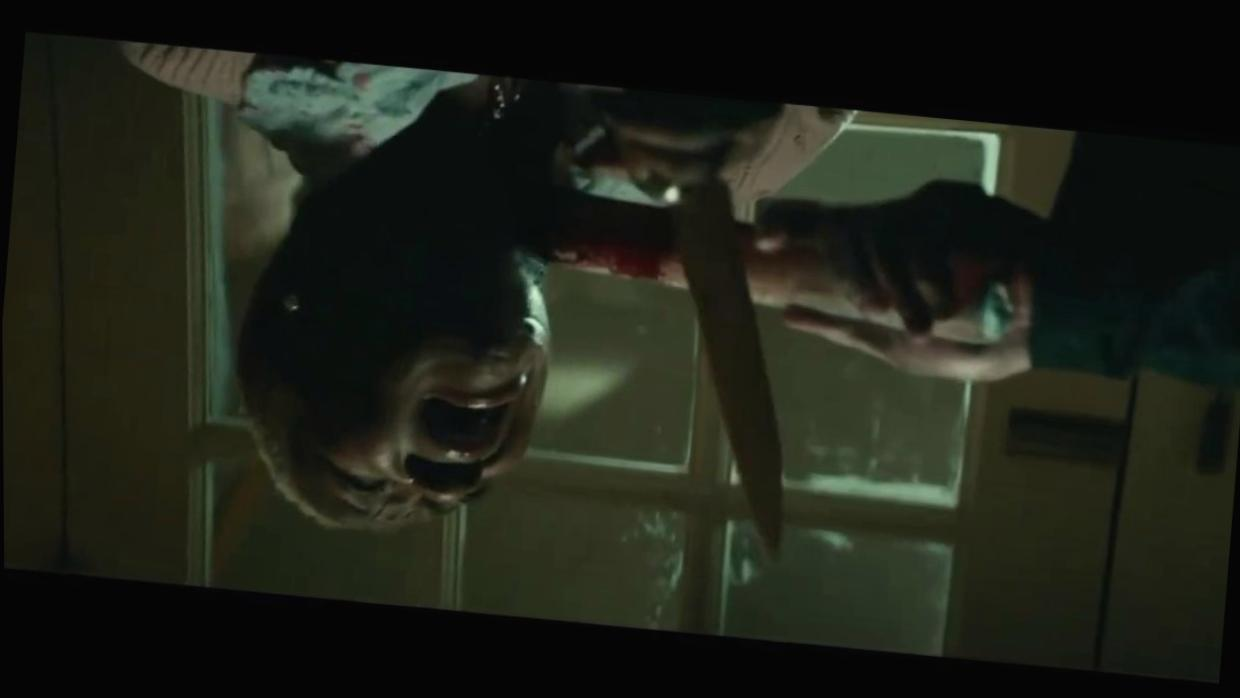Fire: (494, 128, 675, 280)
